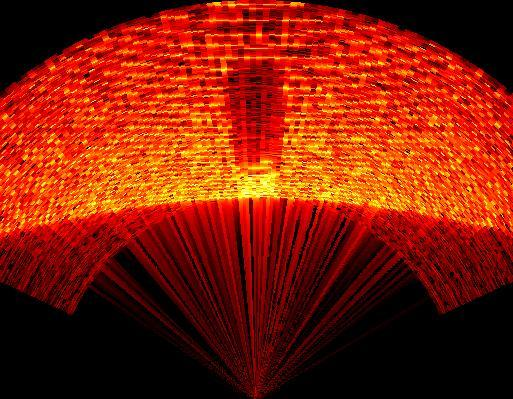box_crate: (221, 60, 288, 173)
